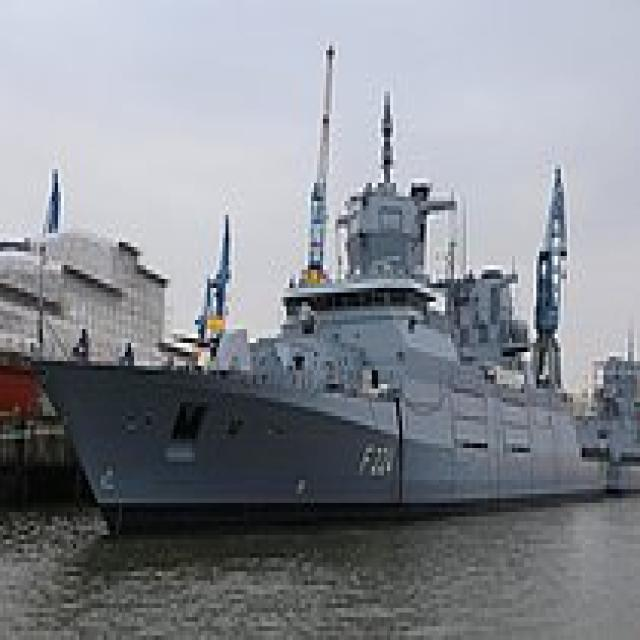Warship: (22, 68, 610, 535)
